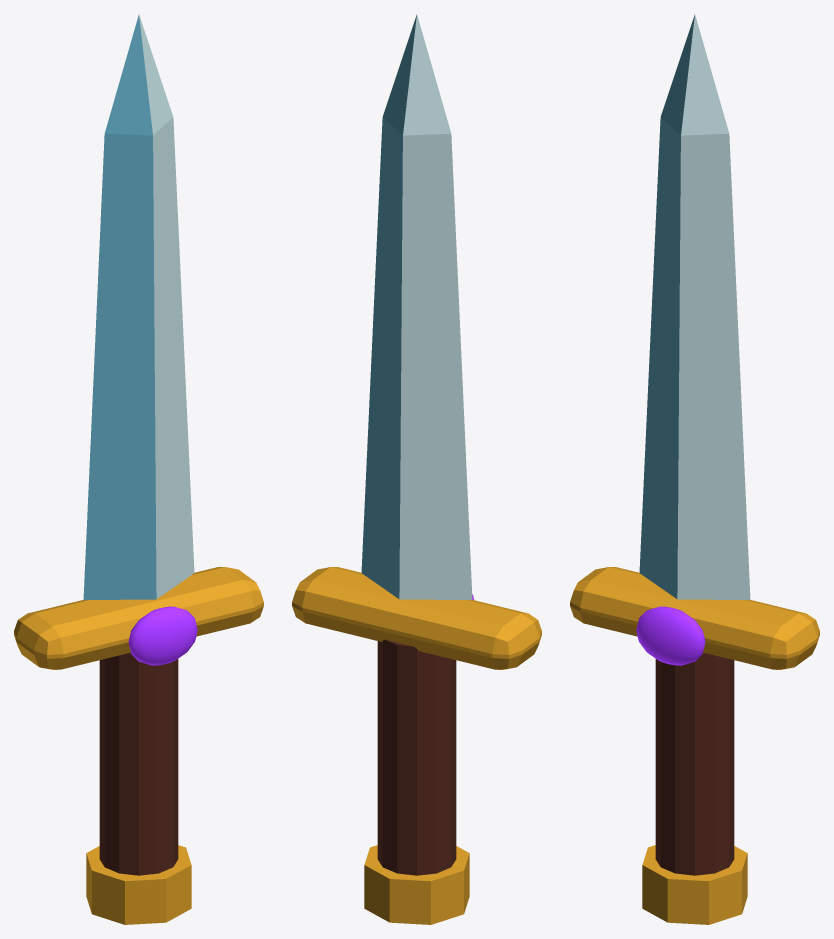
Rendered from dualblade.glb.
3 renders of one model, left to right at view 1: azimuth 30°, elevation 25°; view 2: azimuth 150°, elevation 25°; view 3: azimuth 330°, elevation 25°, orthographic.
Parts seen in each view (by area): view 1: dualblade; view 2: dualblade; view 3: dualblade.
Boxes of the visible parts, x1,y1,x2,y2 form: dualblade: (14, 14, 263, 924); dualblade: (292, 14, 541, 924); dualblade: (570, 14, 819, 924).
Size of the model in its own units: 0.3 by 1.12 by 0.135.
